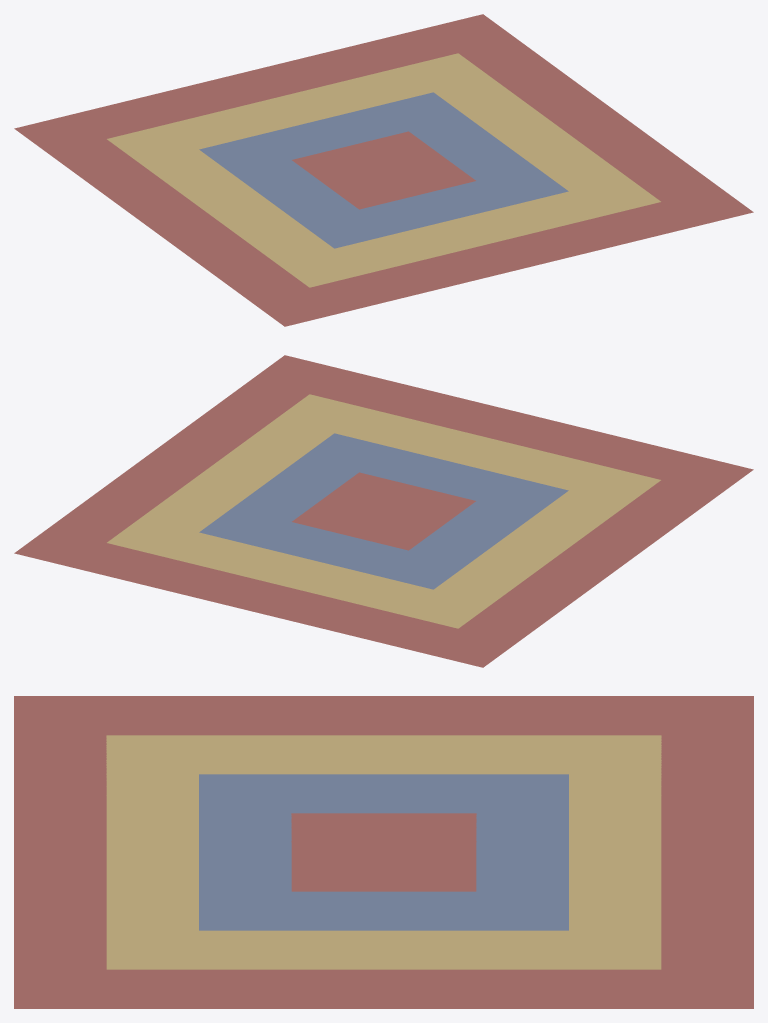
The model's file is rug.glb.
3 views of the same model, one above another, from view 1: azimuth 30°, elevation 25°; view 2: azimuth 150°, elevation 25°; view 3: azimuth 270°, elevation 25° (orthographic). The views are drawn at different scales.
Parts seen in each view (by area): view 1: rug; view 2: rug; view 3: rug.
Part boxes in pixels (x1,y1,x2,y2): rug: (14,14,753,326); rug: (14,355,753,667); rug: (14,696,753,1008).
Size of the model in its own units: 2 by 0 by 2.
